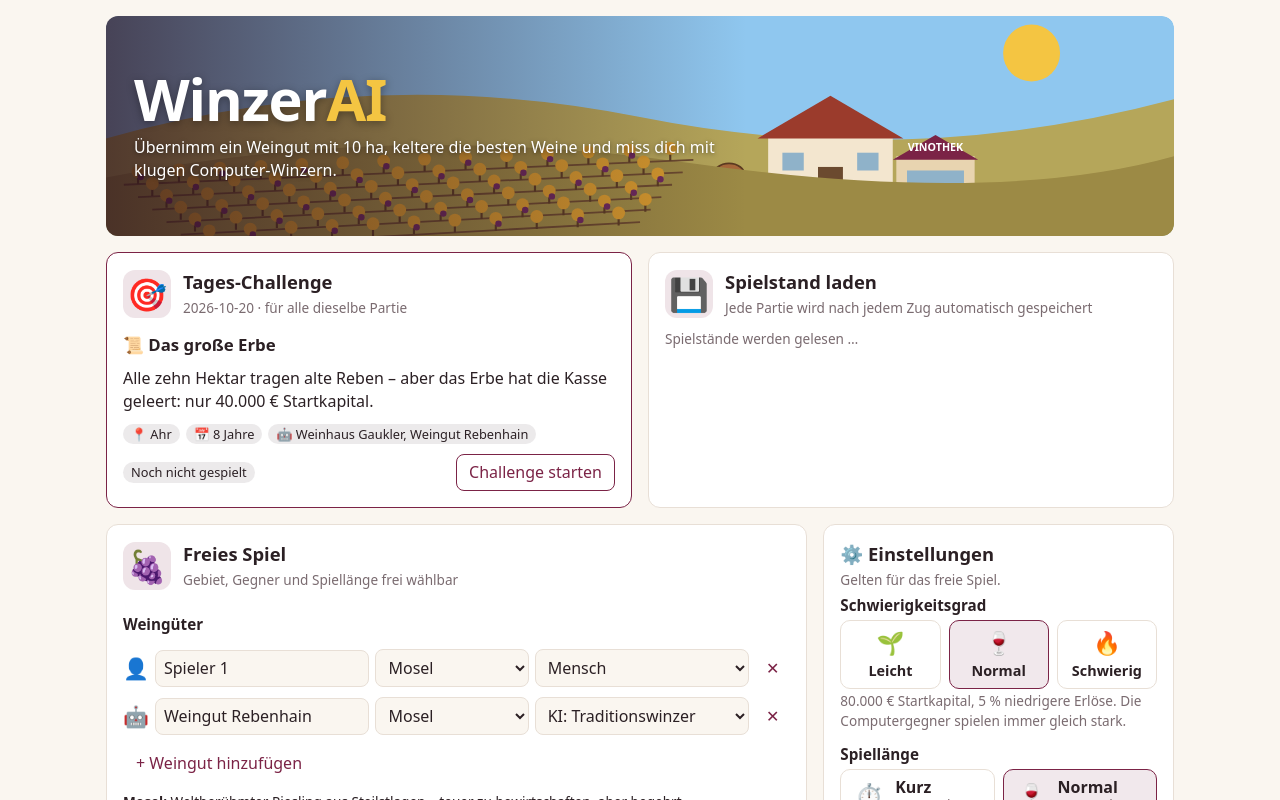
Test: Bedienung › Hot-Seat zeigt beim Spielerwechsel die Übersicht
Select "Mensch" in the 2nd dropdown named "Gesteuert von" at (642, 716), box left=535, top=697, right=749, bottom=735
(page scrolled)
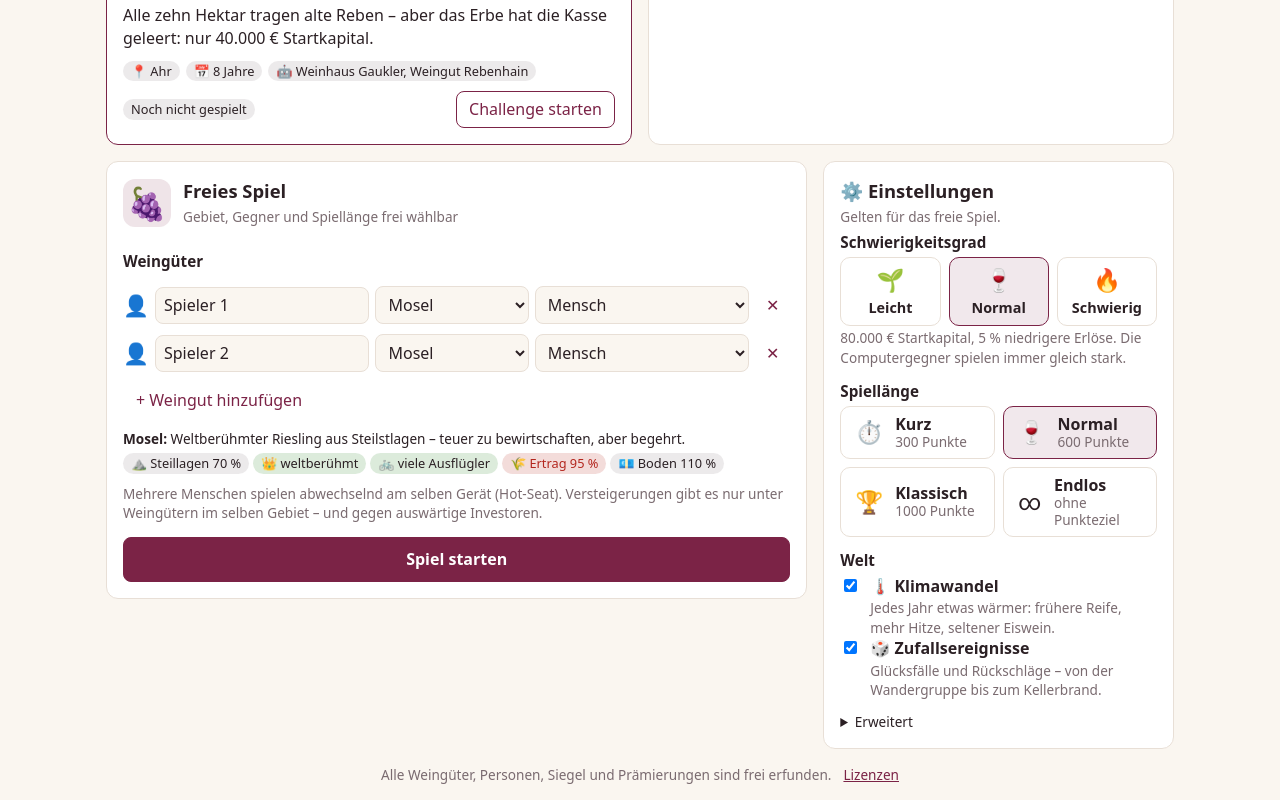
Click the button "Spiel starten" at (457, 560), box left=123, top=537, right=790, bottom=582
(page scrolled)
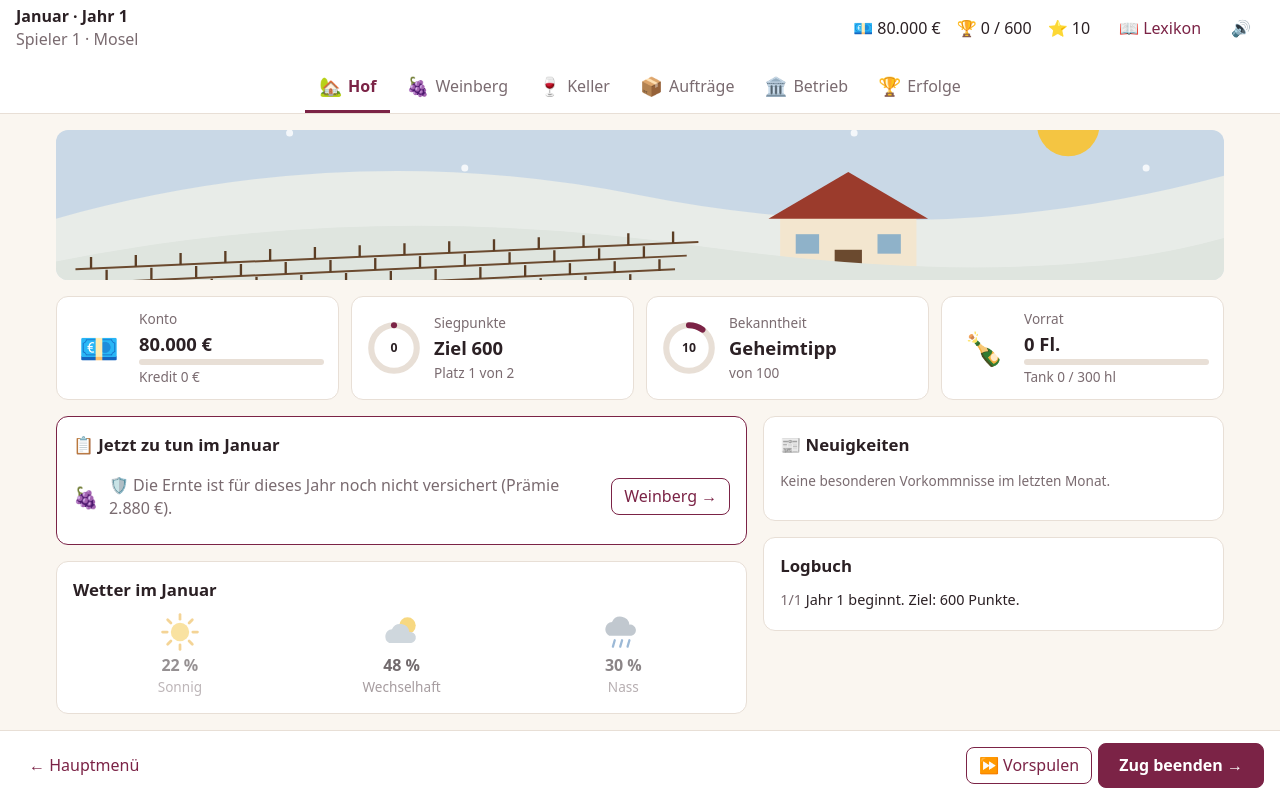
Click the button "Zug beenden →" at (1181, 765), box left=1098, top=743, right=1264, bottom=788
(page scrolled)
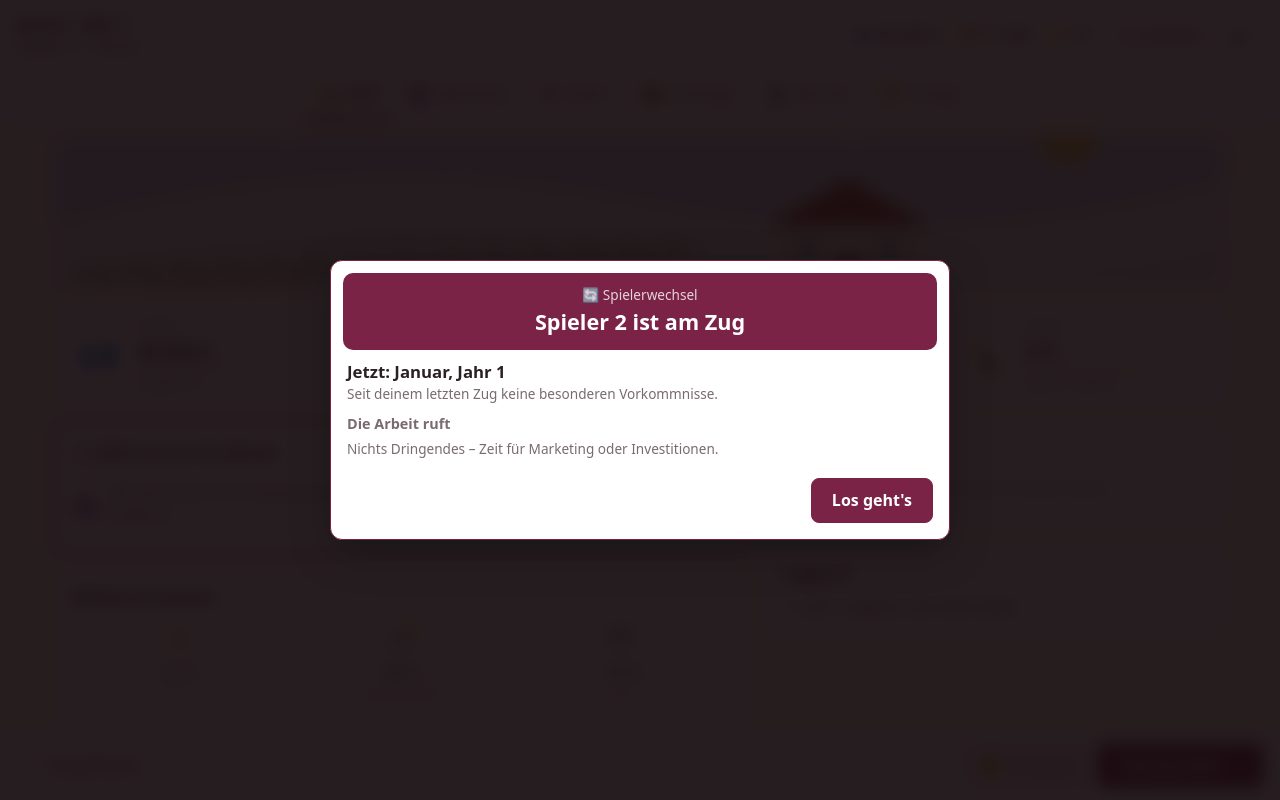
Expected: the dialog shows "Spielerwechsel", left=582, top=285, right=698, bottom=304
Expected: the dialog shows "Spieler 2 ist am Zug", left=535, top=307, right=745, bottom=336
Click the button "Los geht's" at (872, 501), box left=811, top=478, right=933, bottom=523
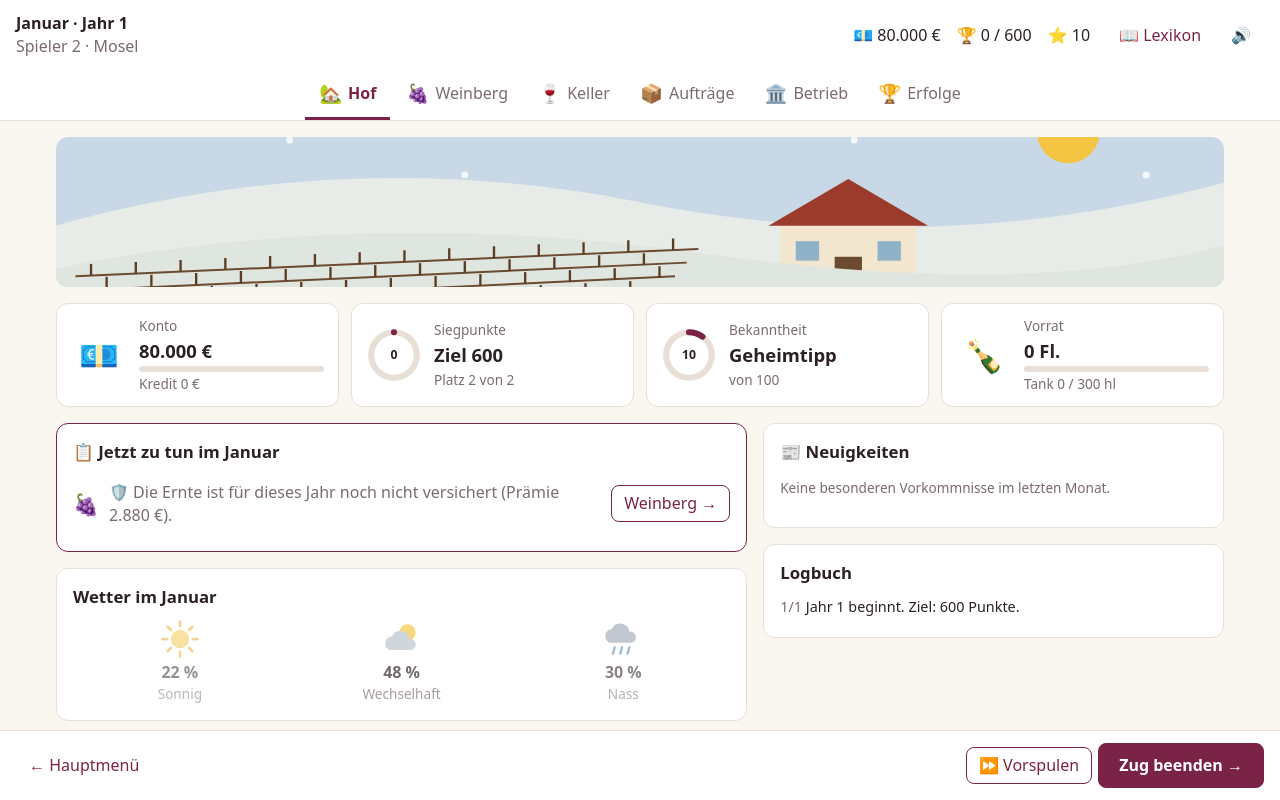
Expected: the text "Spieler 2" is shown, left=16, top=35, right=138, bottom=57
Expected: the text "Zug beenden" is shown, left=1098, top=743, right=1264, bottom=788
Expected: the heading "Jetzt: Januar, Jahr 1" is gone
